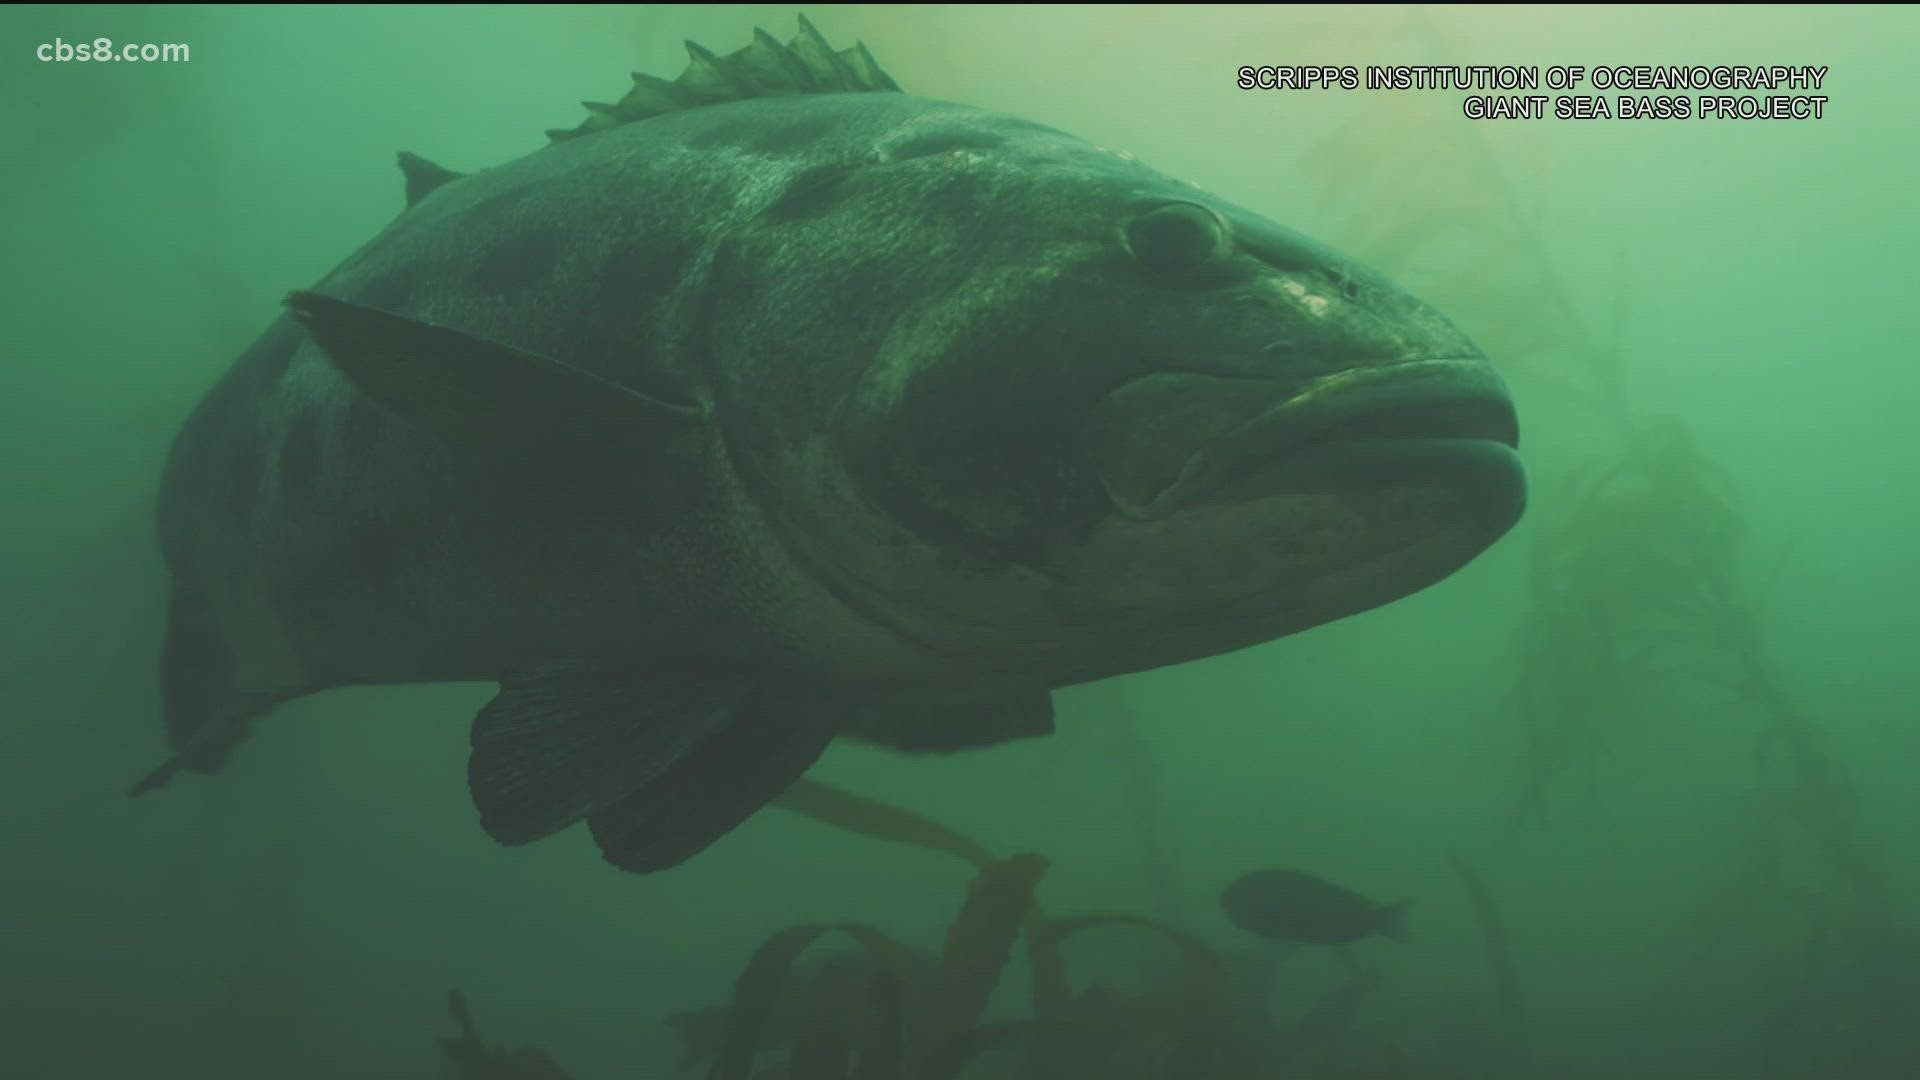Giant Bass: (44, 57, 1569, 955)
